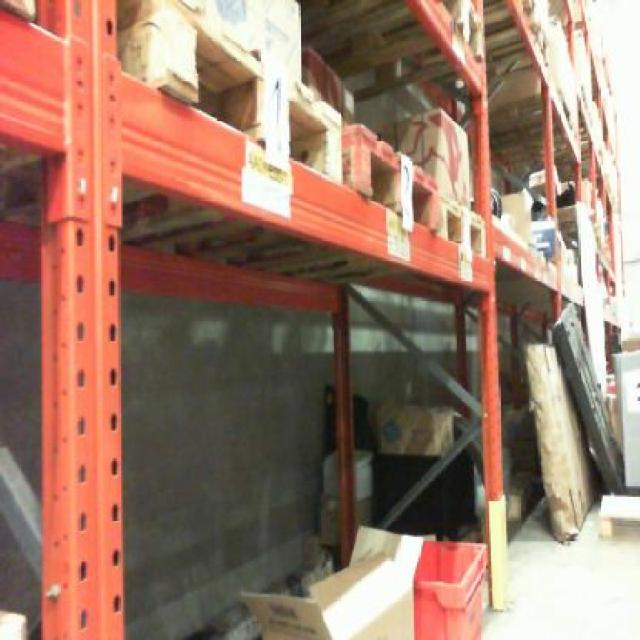pallet: (113, 0, 351, 192), (336, 115, 445, 241), (436, 187, 489, 265)
